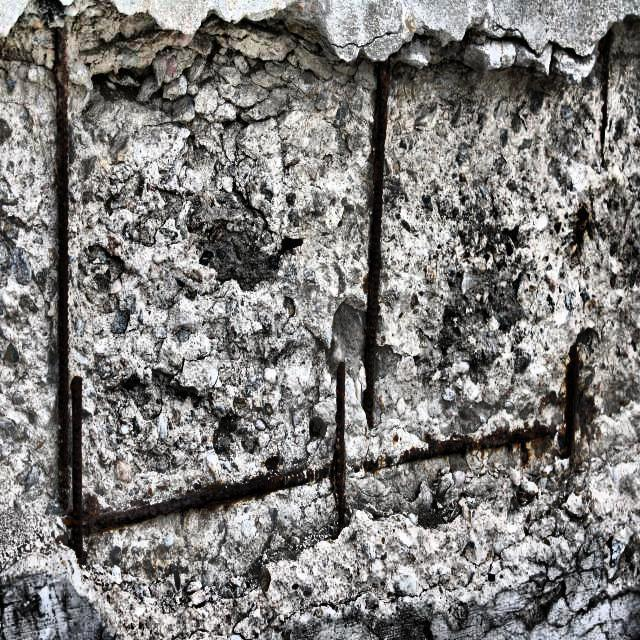D0w0: (83, 459, 335, 536), (363, 59, 391, 428), (364, 421, 557, 471), (54, 23, 70, 510), (70, 376, 82, 559), (333, 361, 346, 529), (561, 343, 580, 457), (599, 29, 614, 165), (337, 463, 342, 470)
